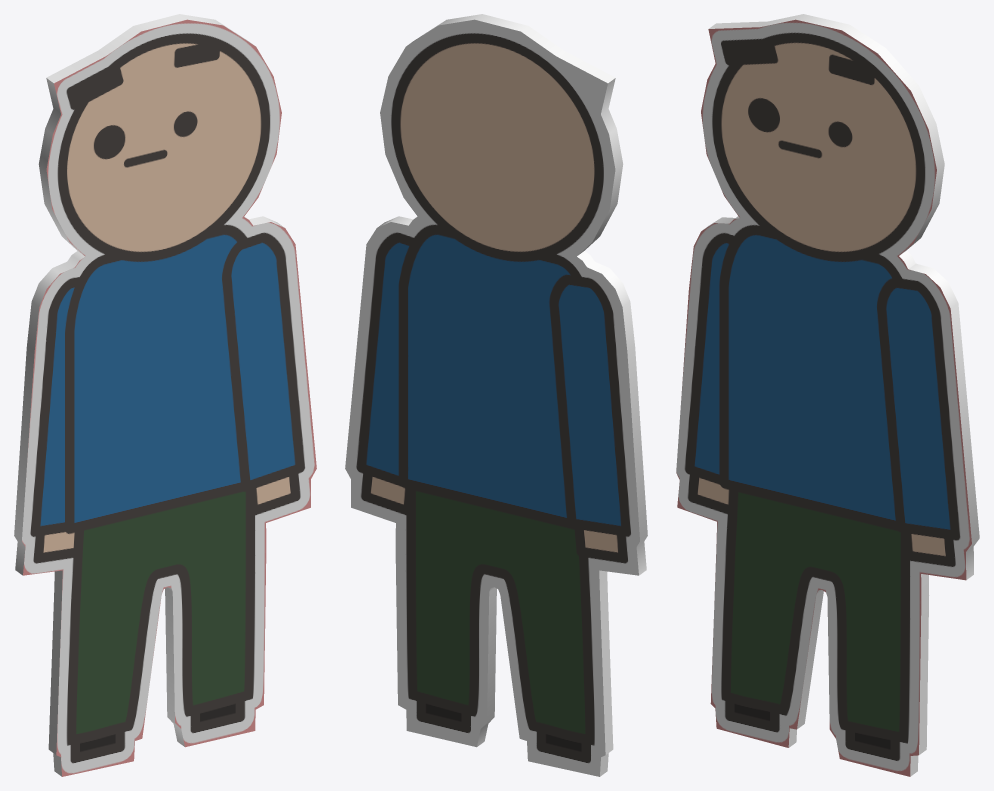
File: HumenPassive.FBX
3 views of the same model, side by side, from view 1: azimuth 30°, elevation 25°; view 2: azimuth 150°, elevation 25°; view 3: azimuth 330°, elevation 25° (orthographic).
Visible parts, largest first — view 1: Dude; view 2: Dude; view 3: Dude.
Boxes of the visible parts, x1,y1,x2,y2 form: Dude: [14, 14, 316, 776]; Dude: [345, 14, 647, 776]; Dude: [676, 14, 979, 776].
Bounding box in the file's own units: 37.91 × 89.48 × 1.73.
Materials: 2 (2 with a texture image).
